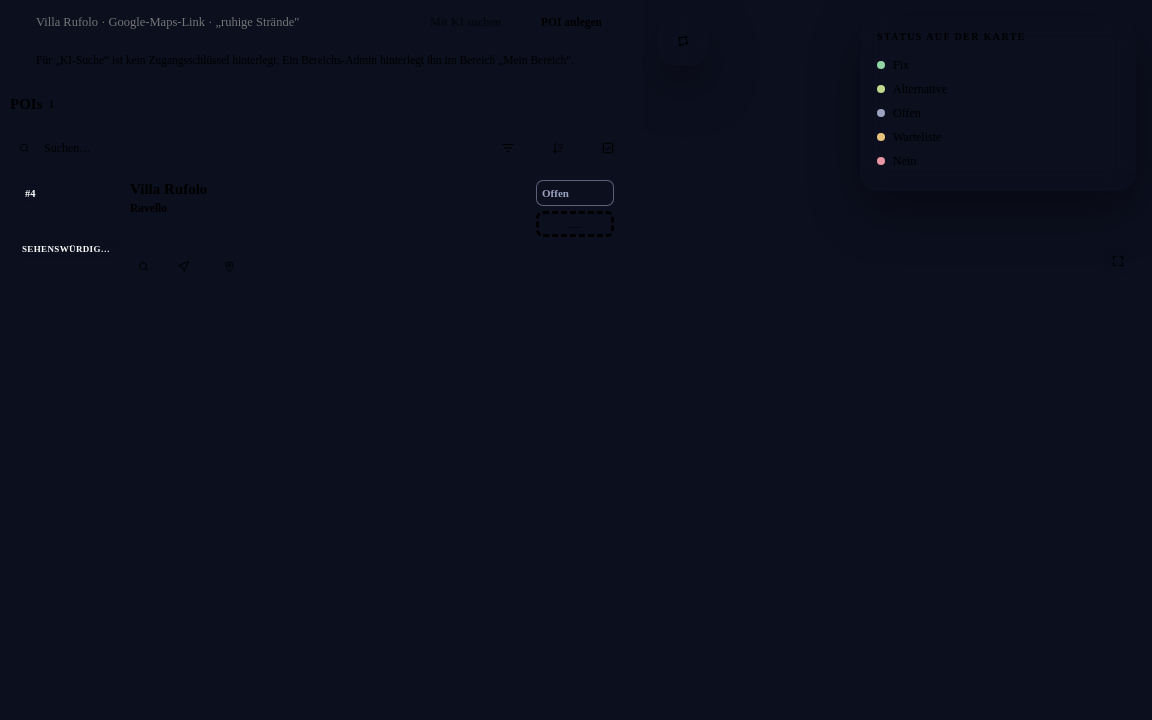
PoisView — POI ändern (req-035) › klappt nach dem Speichern zu und zeigt die neuen Angaben (req-107)
Step 1. Click the button "Villa Rufolo Ravello" → (169,189), box [130,180,526,248]
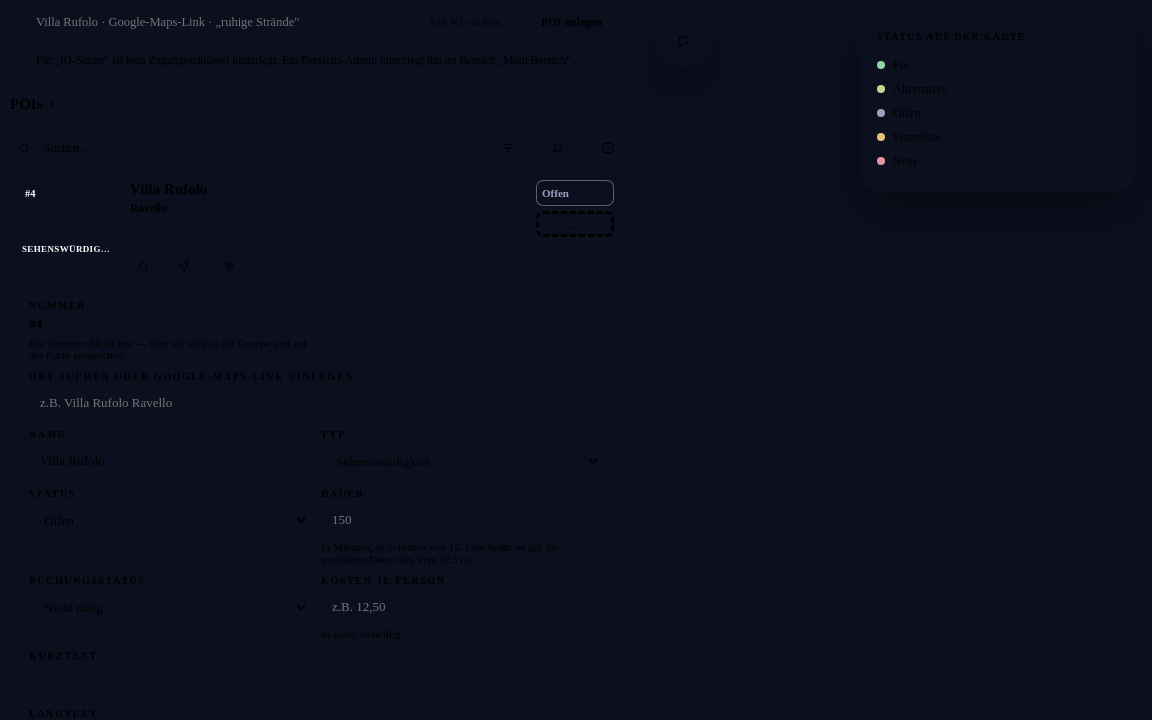
Step 2. Replace the text in the field labelled "Name" with "Villa Cimbrone" → (169,461), box [29,445,309,477]
(page scrolled)
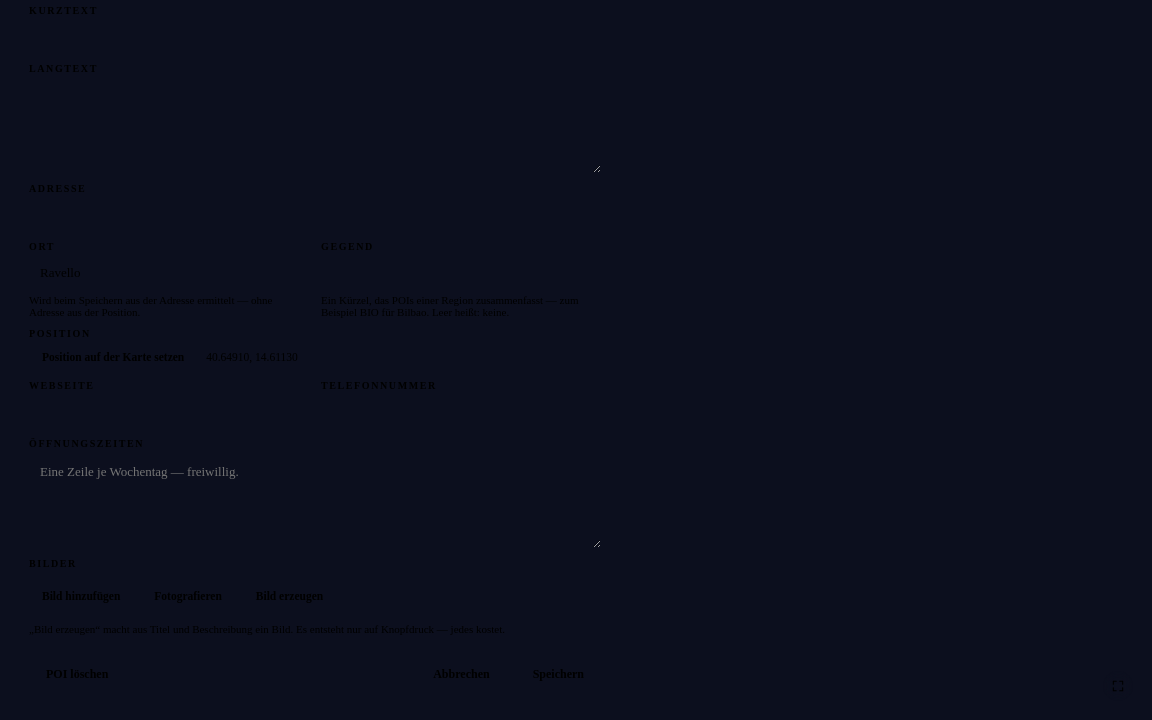
Step 3. Click the button "Speichern" → (558,674), box [516,659,601,690]
(page scrolled)
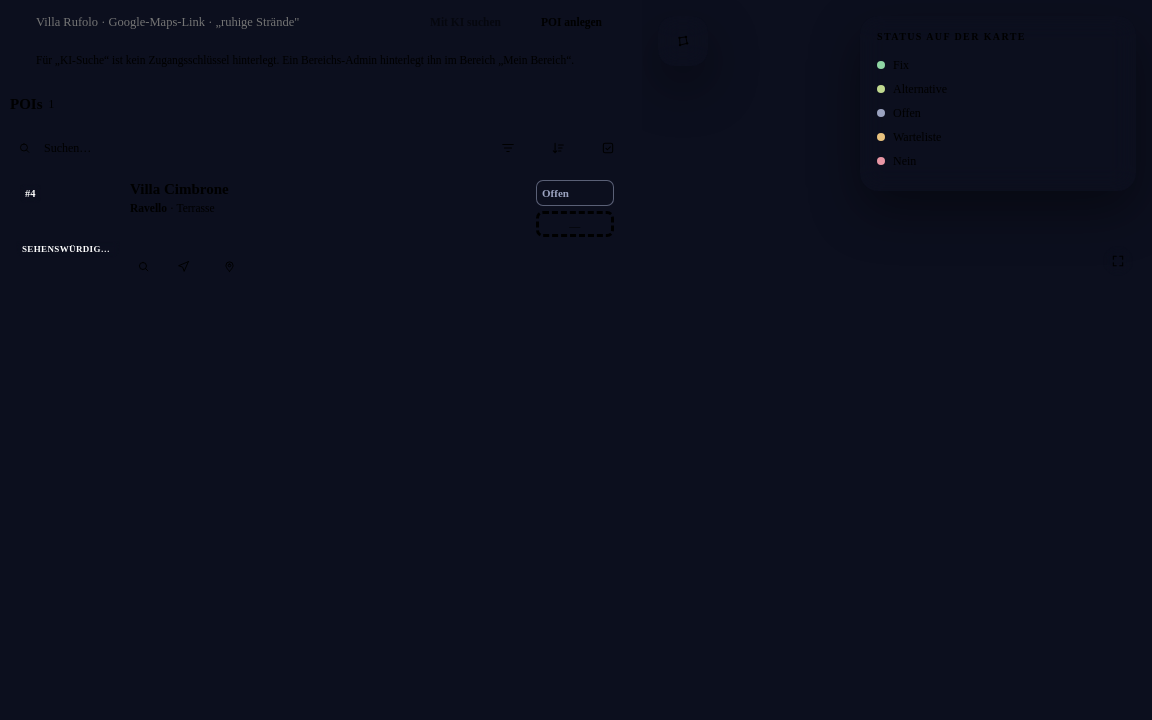
Result: the button "Villa Cimbrone" is collapsed at [130,180,526,248]
Result: the text with test id "poi-kurztext-poi-1" reads "Terrasse" at [176,202,215,214]
